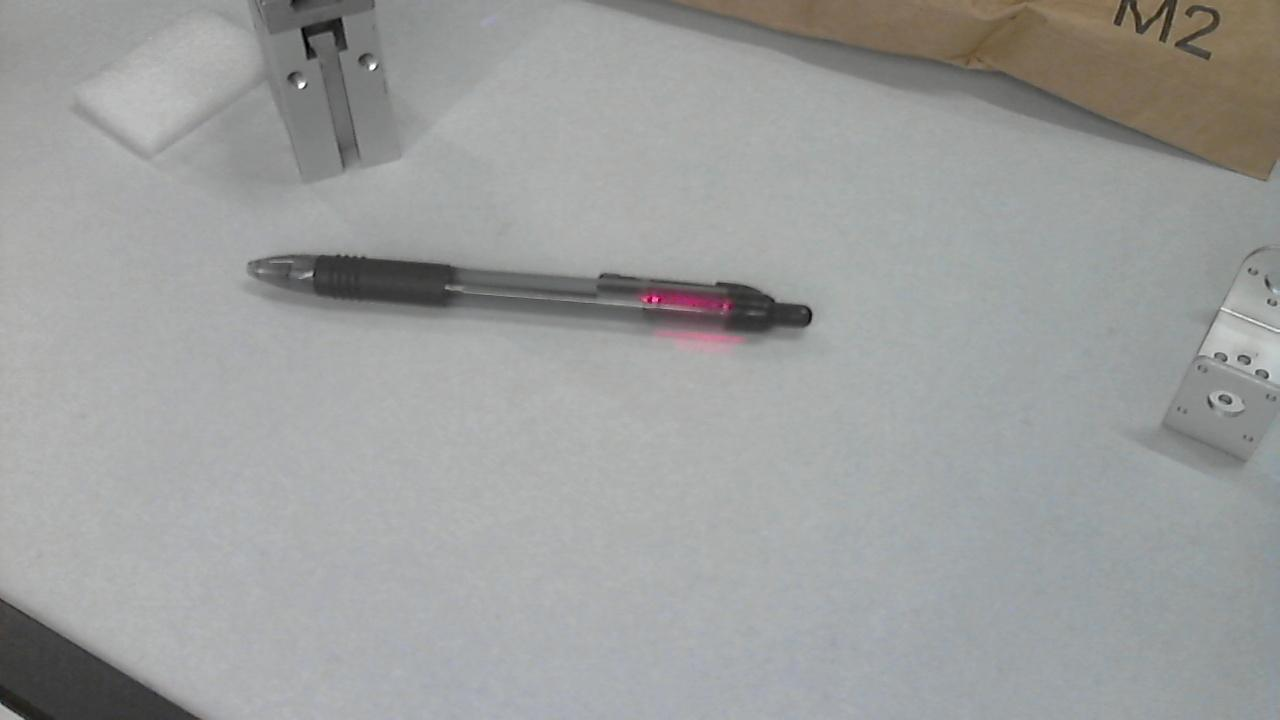Object retractable gel pen - Material plastic- Pdfname asdasdaswe: (640, 279, 752, 330)
